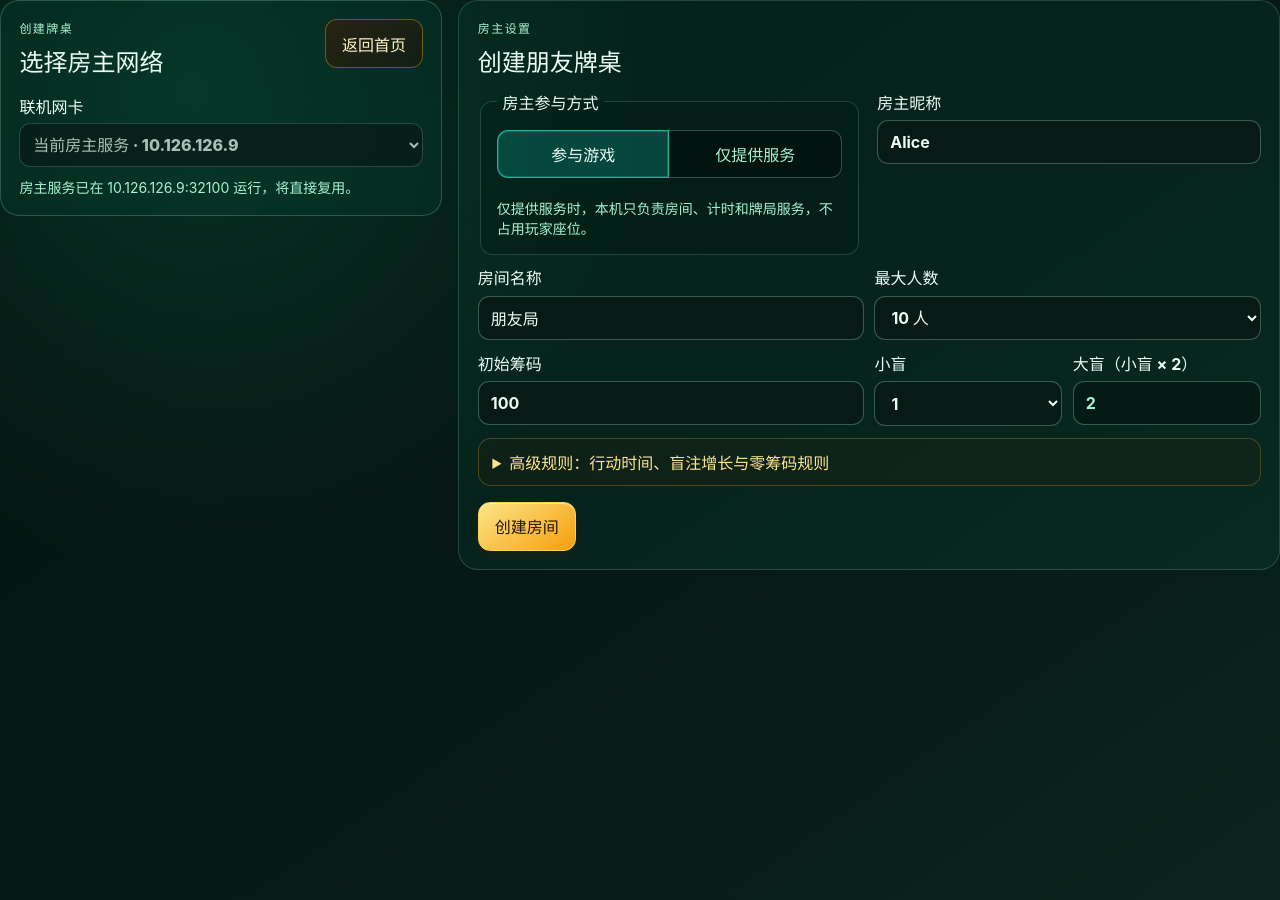
it: DesktopRoomSetup › stops the host and keeps the form for choosing a new network after closing a running room
expect the text "房主服务已在 10.126.126.9:32100 运行，将直接复用。" is shown: met, box 19,179 -> 359,196
Click the button "创建房间" at (527,526), box 478,502 -> 576,551
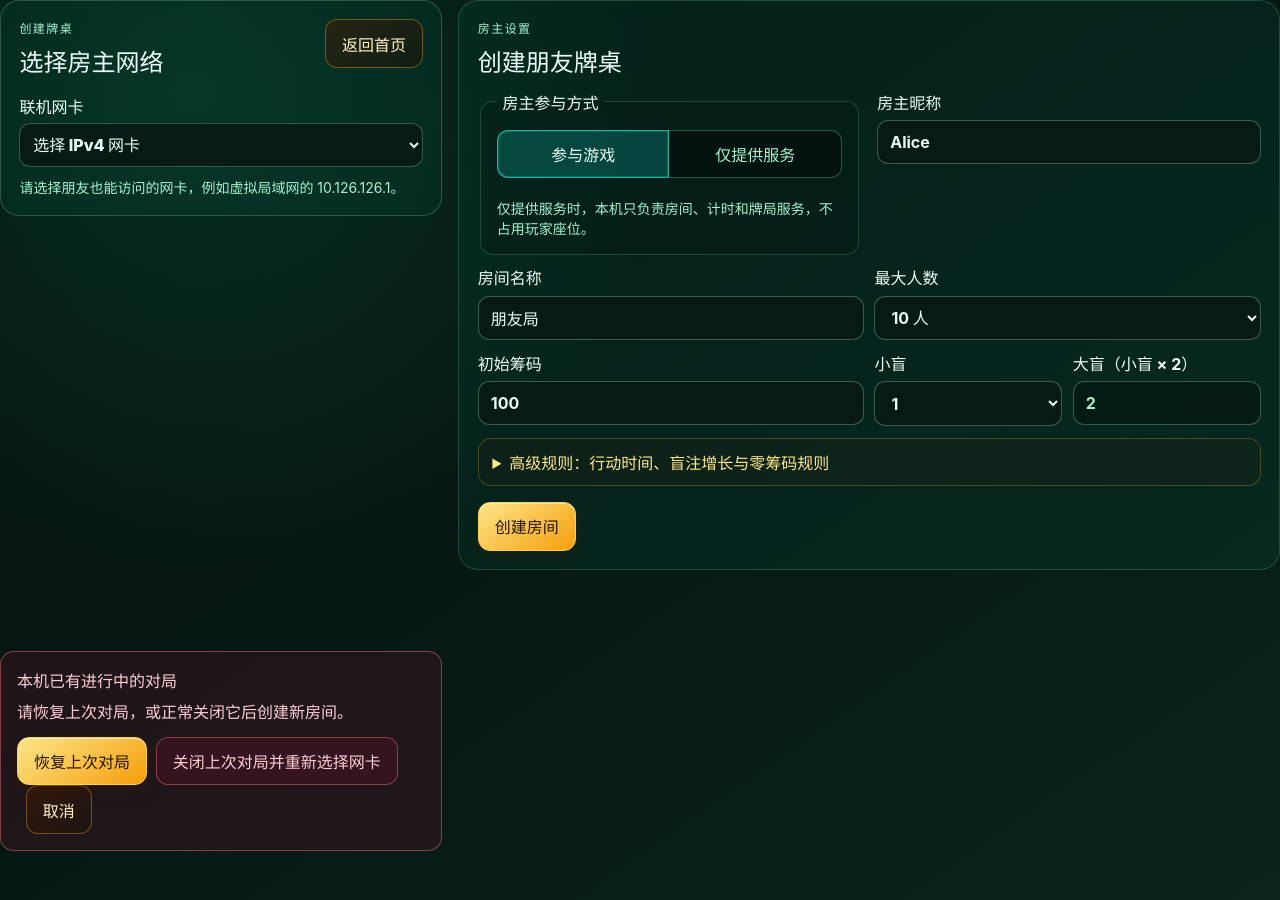
expect the dialog "本机已有进行中的对局" is shown: met, box 0,651 -> 442,851
Click the button "关闭上次对局并重新选择网卡" at (277,761), box 156,737 -> 398,785
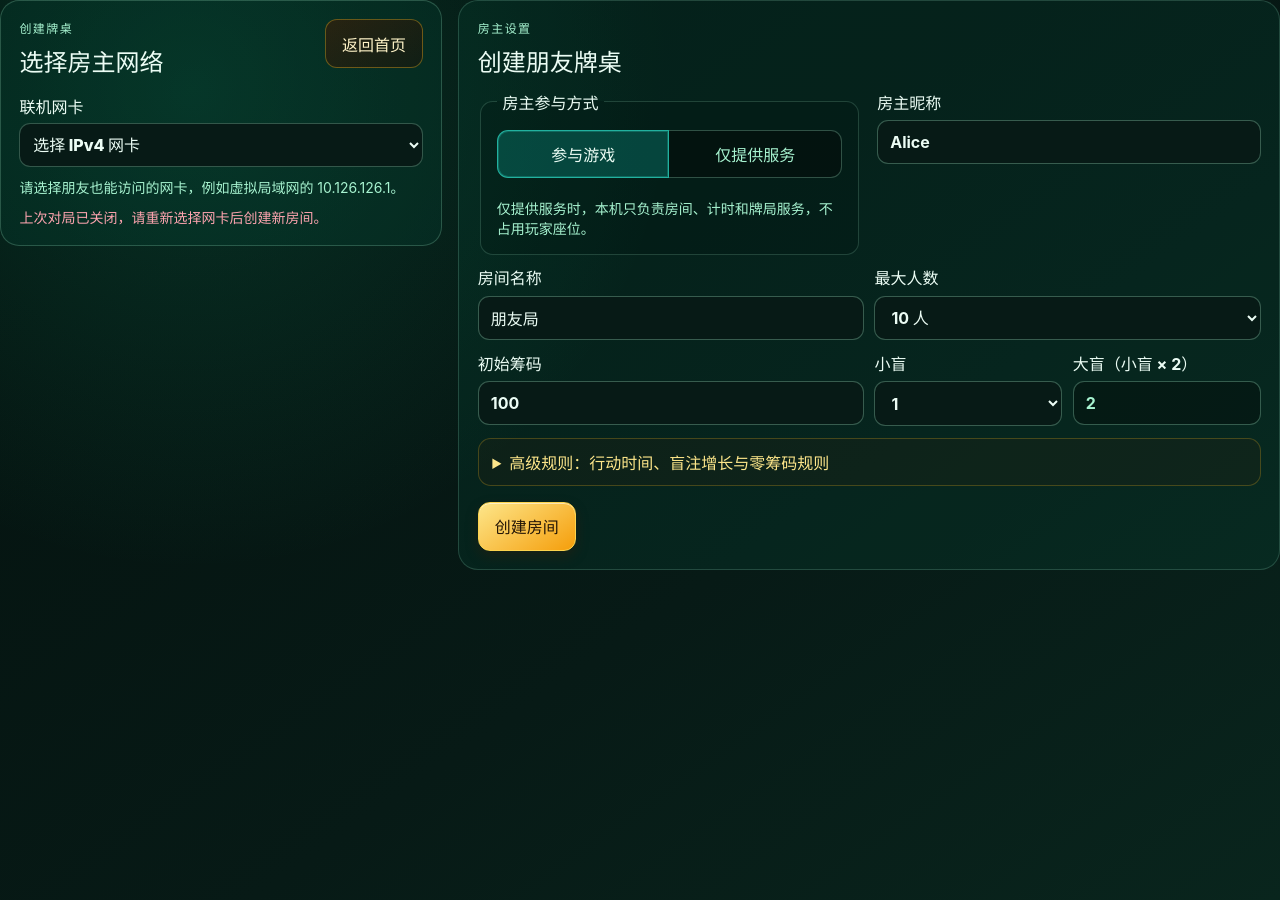
expect the dropdown labelled "联机网卡" is enabled: met, box 19,123 -> 423,167
expect the dropdown labelled "联机网卡" shows "选择 IPv4 网卡": met, box 19,123 -> 423,167
expect the text "上次对局已关闭，请重新选择网卡后创建新房间。" is shown: met, box 19,209 -> 327,226
